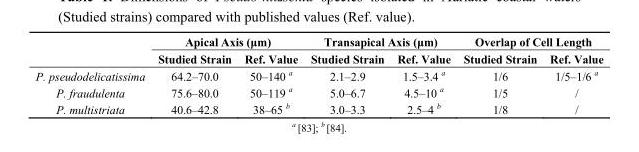table: (34, 34, 602, 115)
table column: (34, 34, 150, 115), (150, 34, 237, 115), (303, 34, 389, 115), (456, 34, 542, 115), (389, 34, 456, 115), (237, 34, 303, 115), (542, 34, 602, 115)
table column header: (34, 34, 602, 66)
table row: (34, 49, 602, 66), (34, 66, 602, 83), (34, 83, 602, 99), (34, 99, 602, 115), (34, 34, 602, 49)
table spanning cell: (150, 34, 303, 49), (303, 34, 456, 49), (456, 34, 602, 49)
